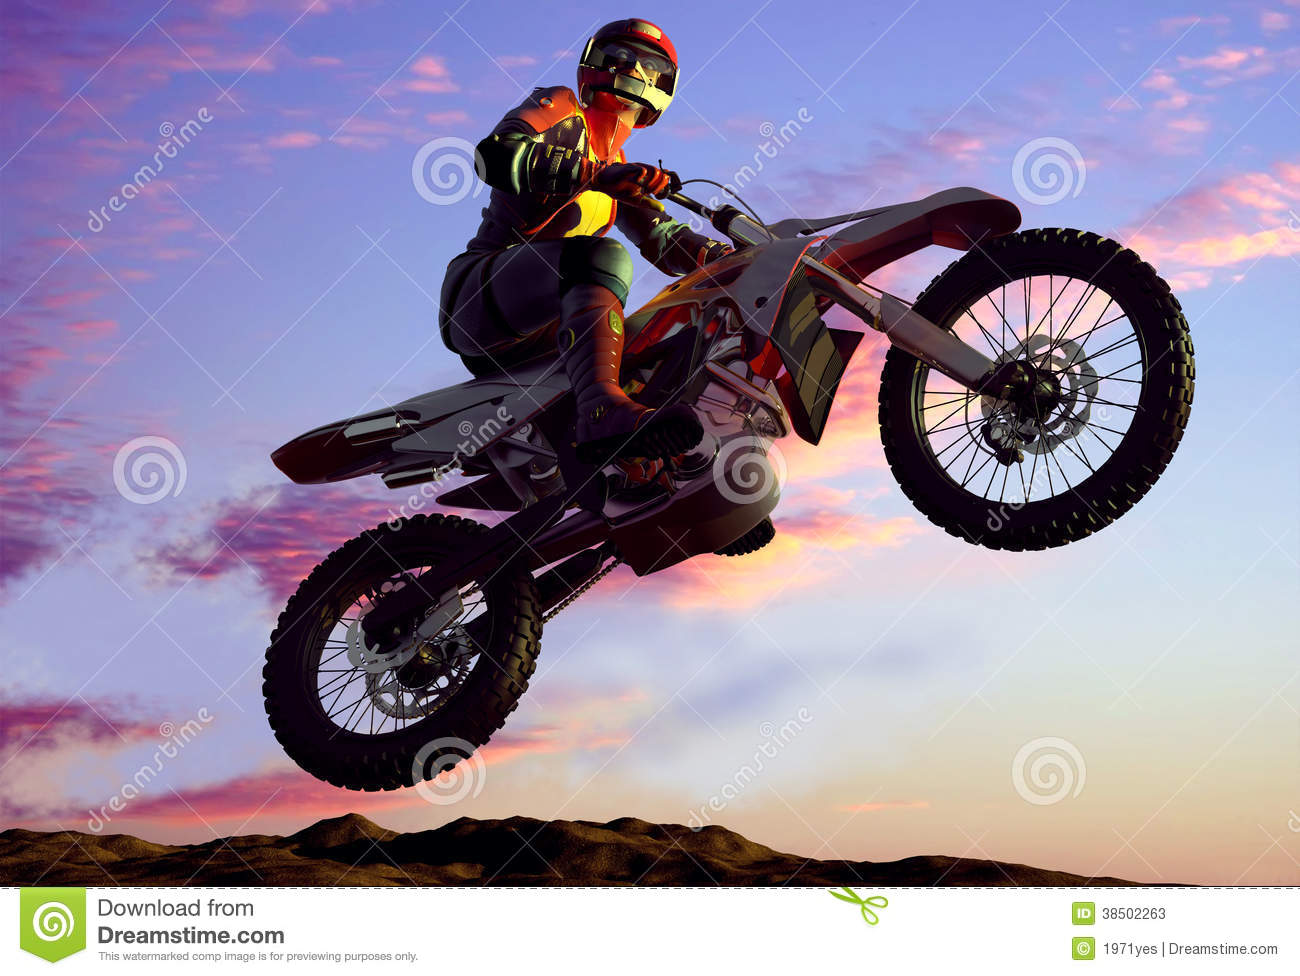helmet: (588, 16, 690, 115)
